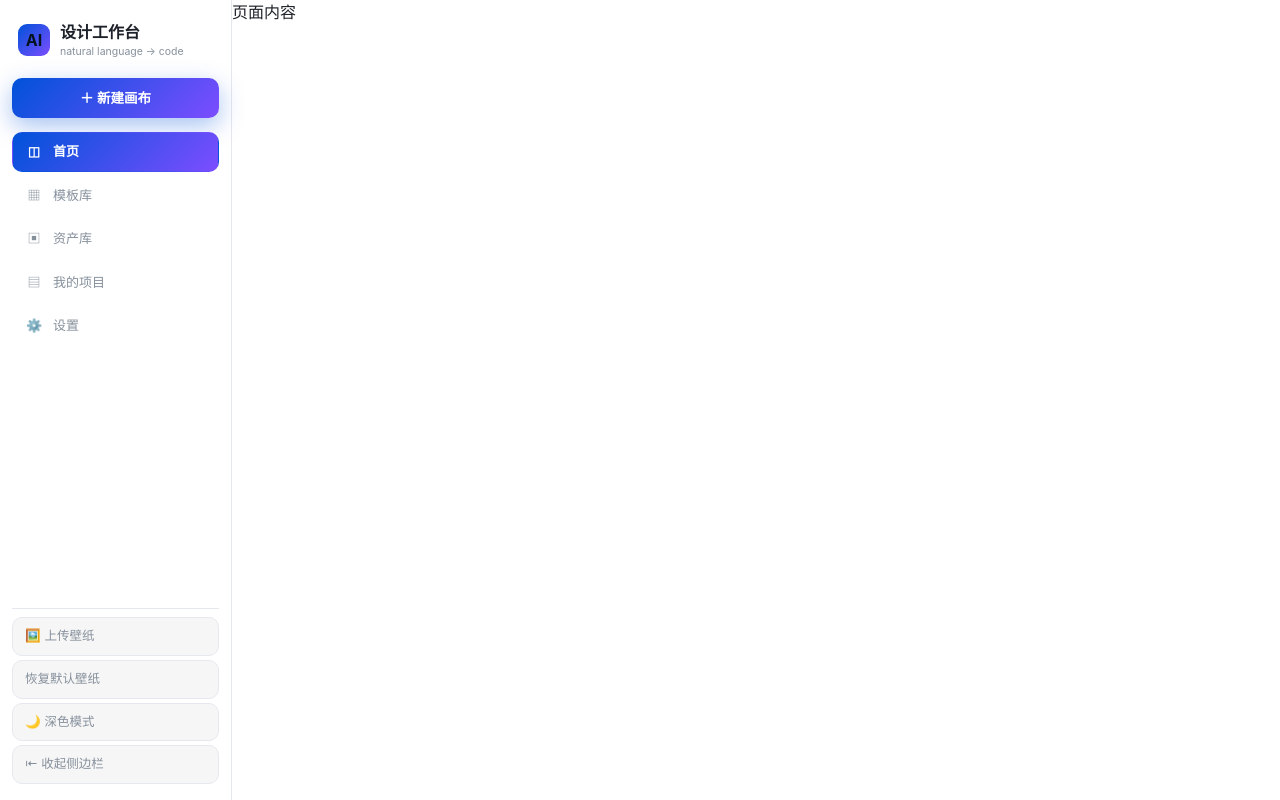
Test: AppShell › 壁纸入口：未上传时不渲染背景层，恢复默认会清掉记录
The width and height of the screenshot is (1280, 800).
Click the button with test id "wallpaper-reset" at (116, 679), box left=12, top=660, right=219, bottom=699
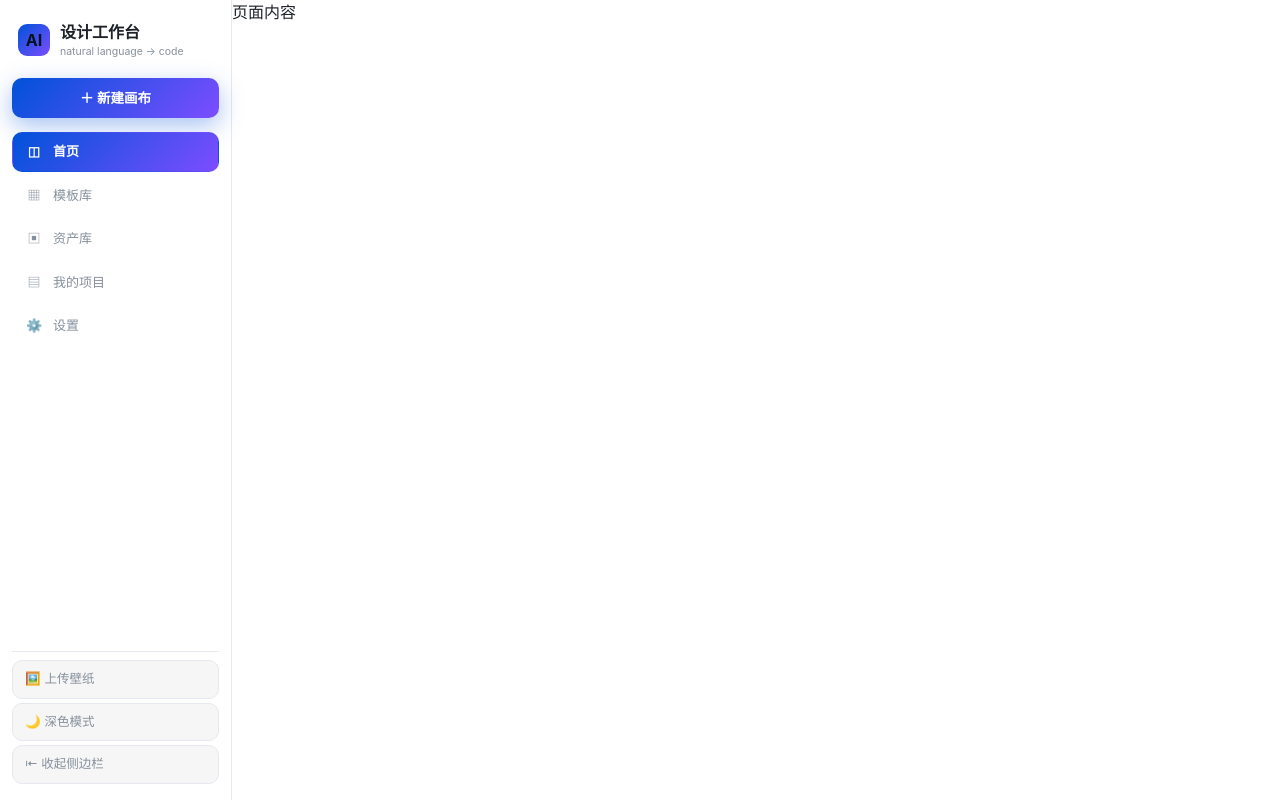
Expected: the element with test id "app-wallpaper" is gone
